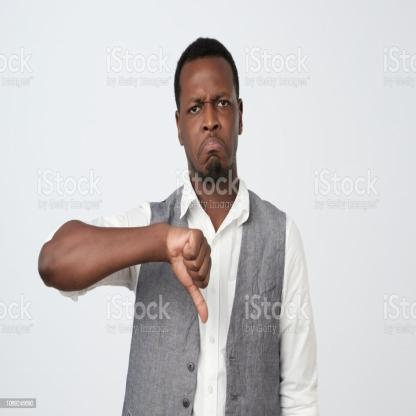Thumbs-Down: (160, 220, 215, 326)
